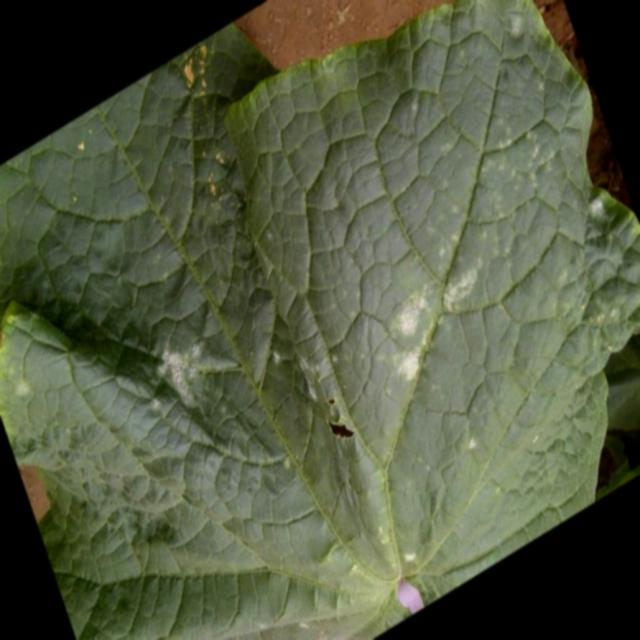Powdery Mildew: (137, 196, 479, 514)
